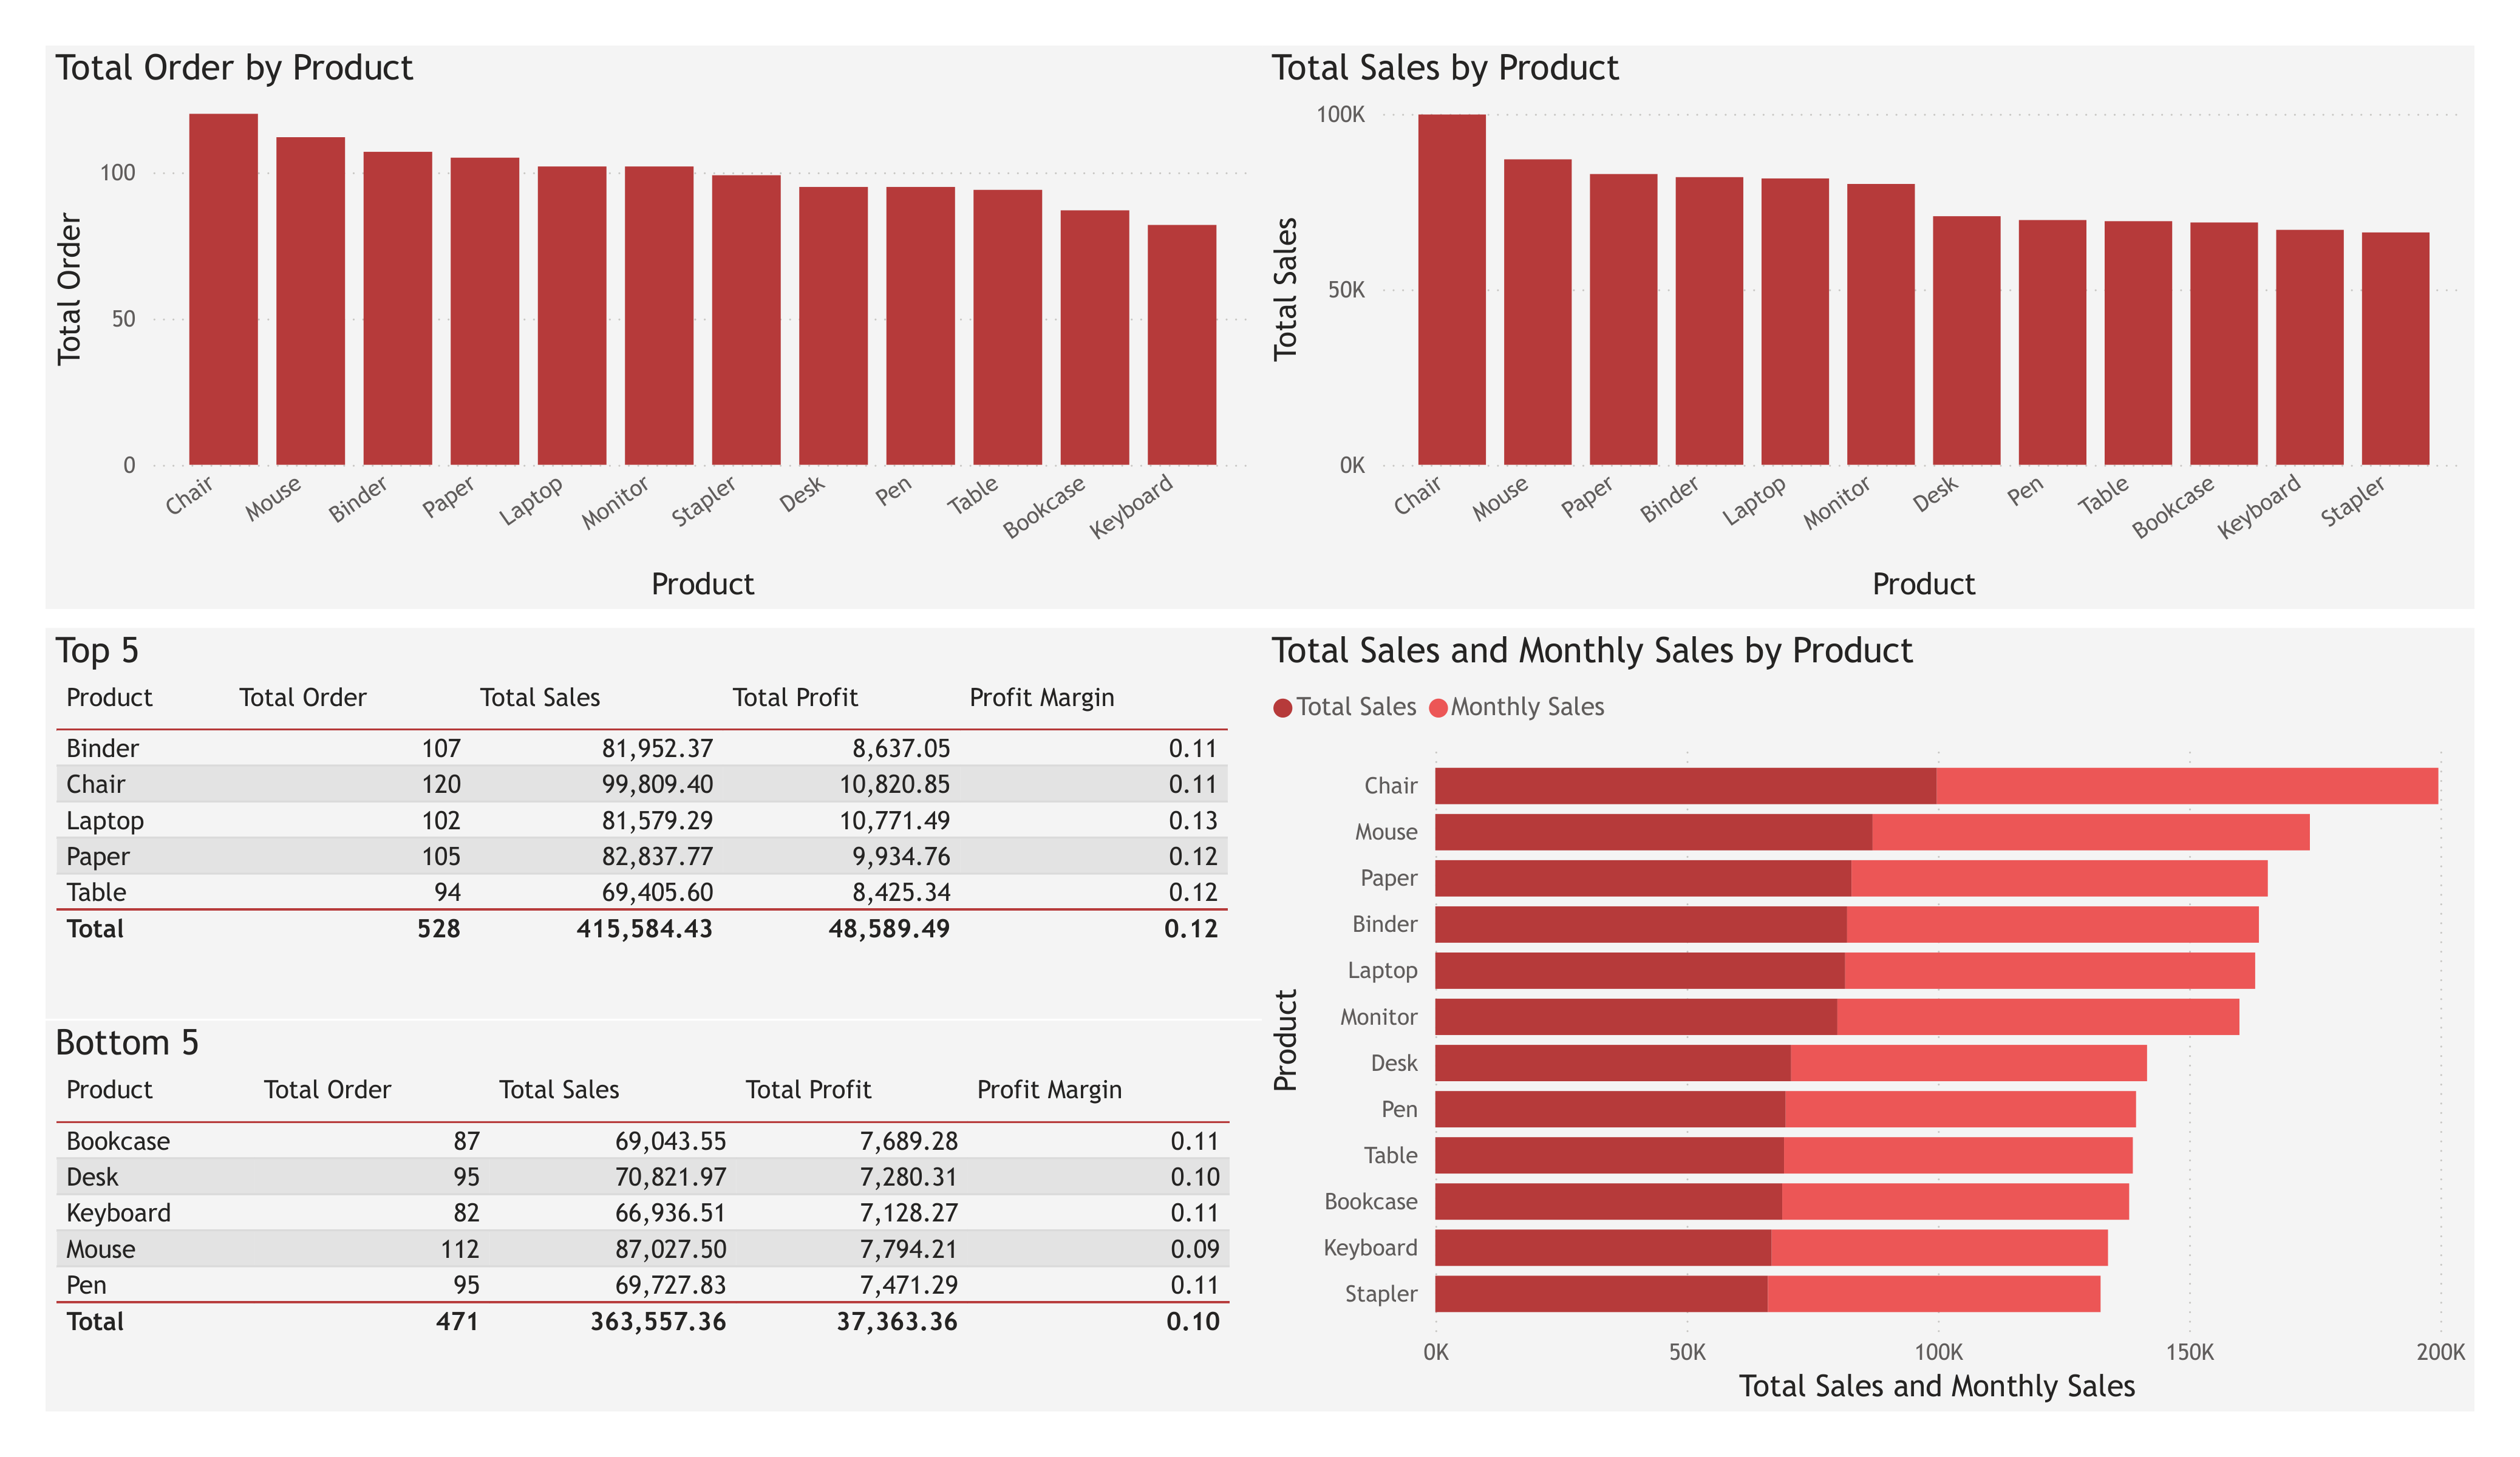

This screenshot's page, from the dashboard's own definition file:
{"tool":"powerbi","page":{"name":"Products Analysis","canvas":[1280,720],"ordinal":3},"visuals":[{"type":"clusteredColumnChart","fields":{"Category":["Sales_Table1.Product"],"Y":["Measures (2).Total Order"]},"box":[0,0,640.7,296.5],"z":0},{"type":"clusteredColumnChart","fields":{"Category":["Sales_Table1.Product"],"Y":["Measures (2).Total Sales"]},"box":[641,0,639,297],"z":1000},{"type":"barChart","fields":{"Category":["Sales_Table1.Product"],"Y":["Measures (2).Total Sales","Measures (2).Monthly Sales"]},"box":[641,307,639,413],"z":3000},{"type":"tableEx","title":"Bottom 5","fields":{"Values":["Sales_Table1.Product","Measures (2).Total Order","Measures (2).Total Sales","Measures (2).Total Profit","Measures (2).Profit Margin"]},"box":[0,514,640.7,207],"z":3001},{"type":"tableEx","title":"Top 5","fields":{"Values":["Sales_Table1.Product","Measures (2).Total Order","Measures (2).Total Sales","Measures (2).Total Profit","Measures (2).Profit Margin"]},"box":[0,307,640.7,205.8],"z":3002}]}

Visuals, with their boxes on the page's 1280x720 design canvas (x1, y1, x2, y2). These are canvas units, not pixel positions in the 2520x1457 screenshot, which may show the page scaled, cropped or inside an application window:
clusteredColumnChart - Sales_Table1.Product x Measures (2).Total Order: [left=0, top=0, right=641, bottom=296]
clusteredColumnChart - Sales_Table1.Product x Measures (2).Total Sales: [left=641, top=0, right=1280, bottom=297]
barChart - Sales_Table1.Product x Measures (2).Total Sales: [left=641, top=307, right=1280, bottom=720]
"Bottom 5" tableEx: [left=0, top=514, right=641, bottom=721]
"Top 5" tableEx: [left=0, top=307, right=641, bottom=513]
